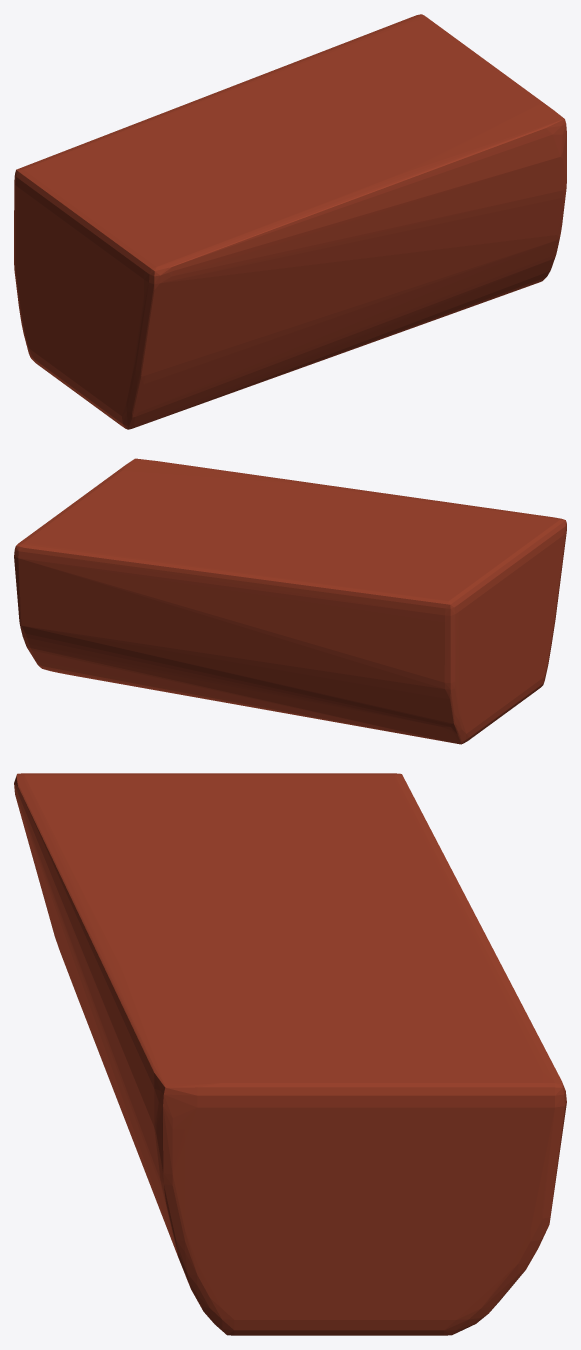
File: left-elbow-0_part_31.obj
3 views of the same model, one above another, from view 1: azimuth 30°, elevation 25°; view 2: azimuth 150°, elevation 25°; view 3: azimuth 270°, elevation 25° (orthographic). The views are drawn at different scales.
Bounding box in the file's own units: 0.0556 × 0.0204 × 0.0408.
